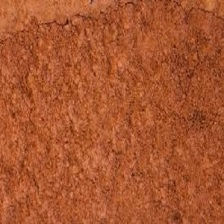clay_soil: (10, 24, 218, 204)
